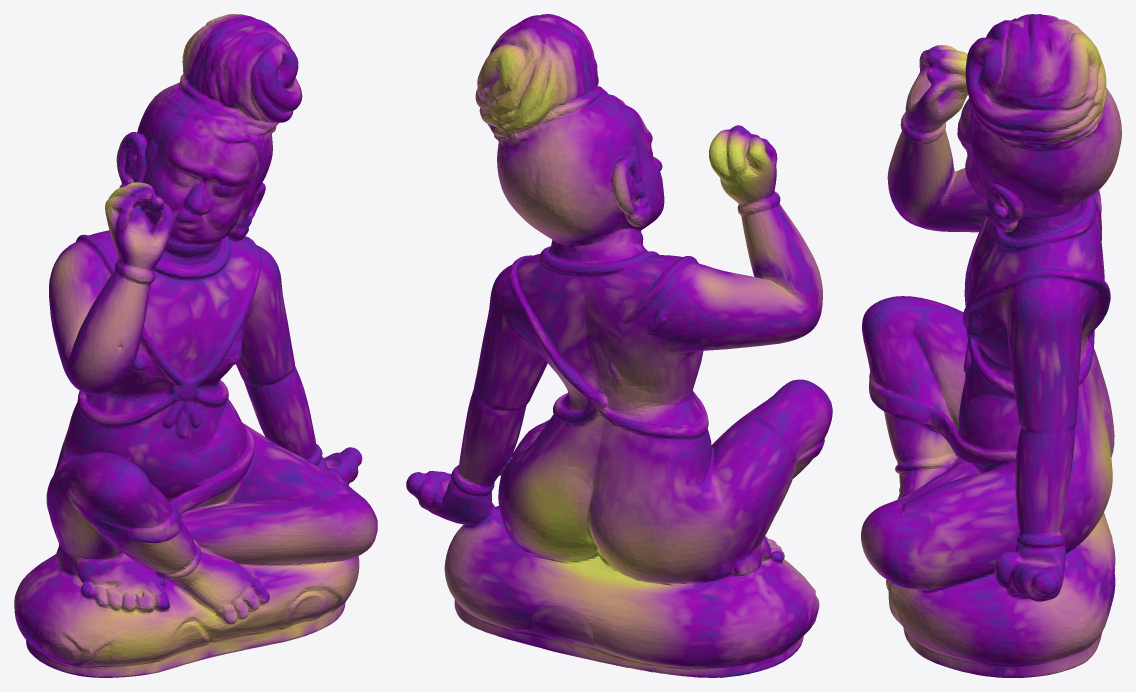
The model's file is iter_10.glb.
3 renders of one model, left to right at view 1: azimuth 30°, elevation 25°; view 2: azimuth 150°, elevation 25°; view 3: azimuth 270°, elevation 25°, orthographic. The views are drawn at different scales.
Parts seen in each view (by area): view 1: textured_mesh; view 2: textured_mesh; view 3: textured_mesh.
Part boxes in pixels (left/top/right/bottom): textured_mesh: left=14, top=14, right=377, bottom=677; textured_mesh: left=406, top=14, right=832, bottom=677; textured_mesh: left=861, top=14, right=1121, bottom=677.
Bounding box in the file's own units: 1.3 × 1.99 × 0.7663.
